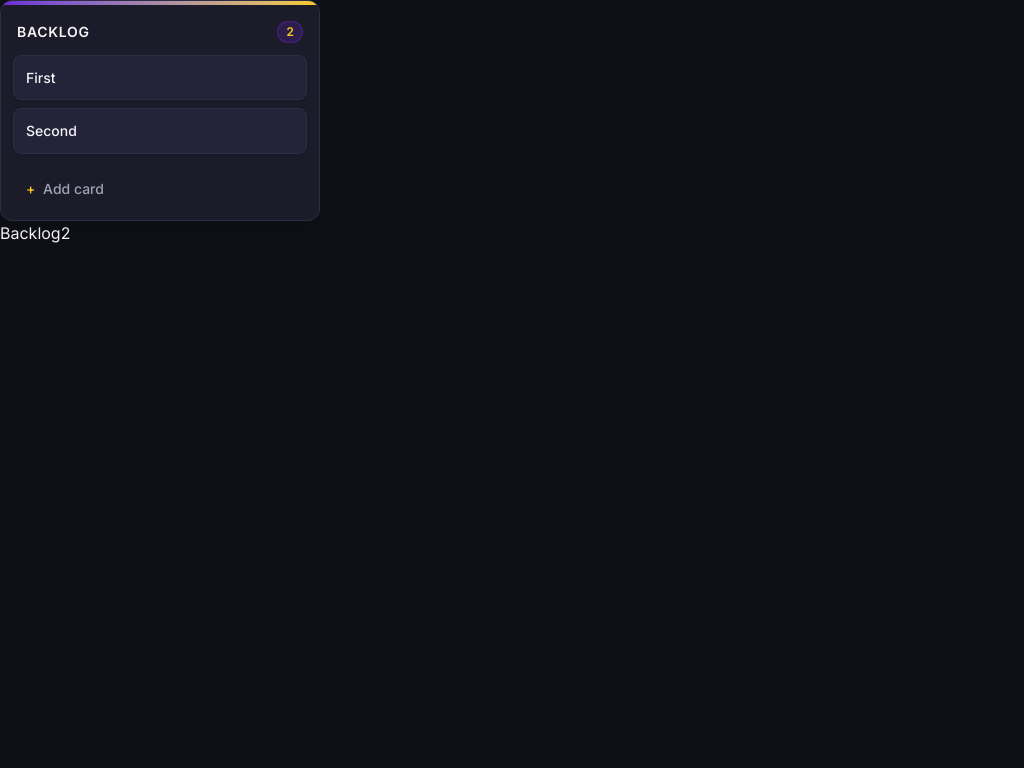
Scenario: Column › adds a card via the add-card dialog
The width and height of the screenshot is (1024, 768).
Expected: the text with test id "cardcount" reads "2", [61,222,70,242]
Click the button "+ Add card" at (72,188), box [13,170,307,208]
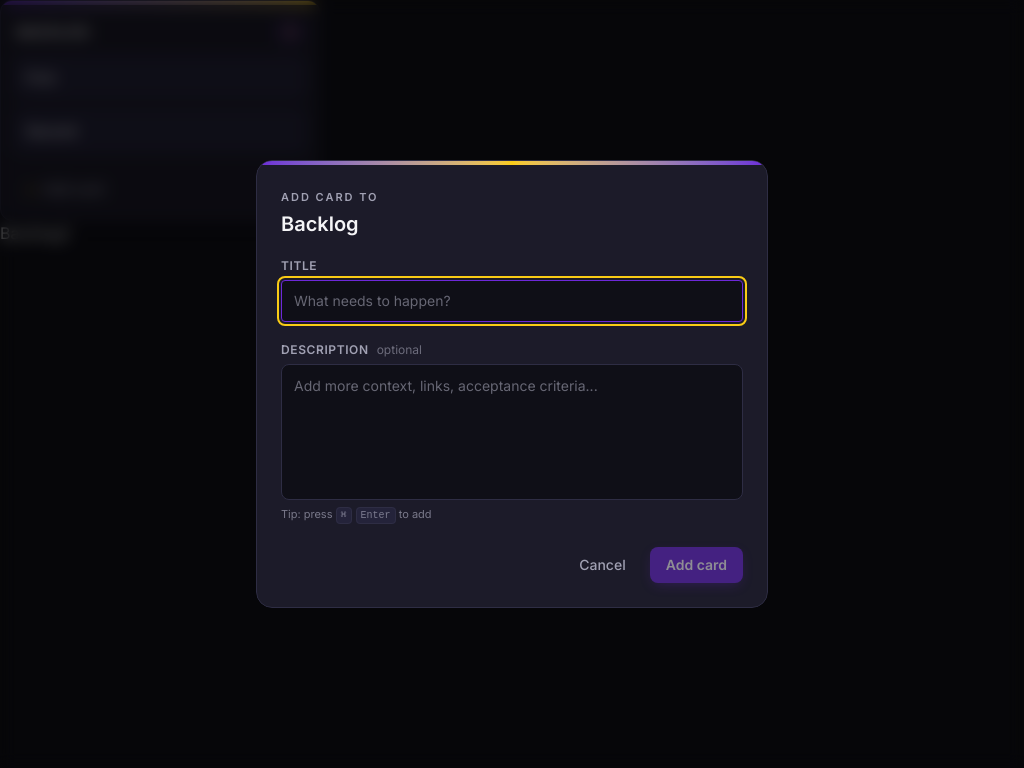
Type "Third" into the field labelled "Title" at (512,301), box [281,280,743,322]
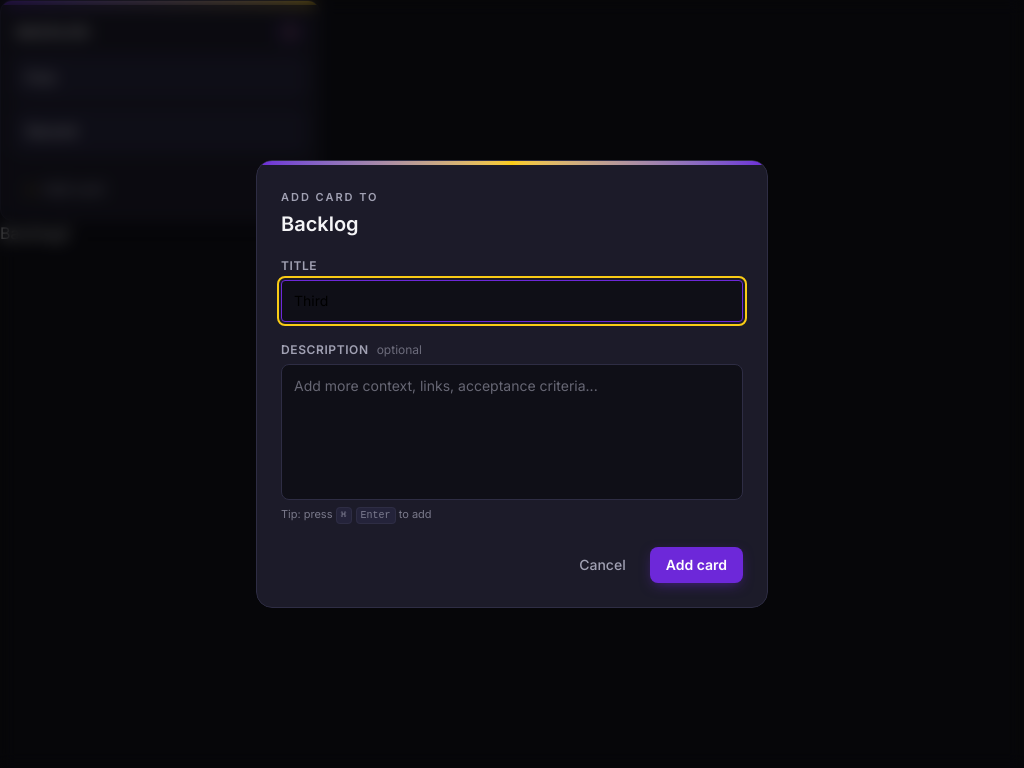
Click the button "Add card" at (696,565), box [650,547,743,583]
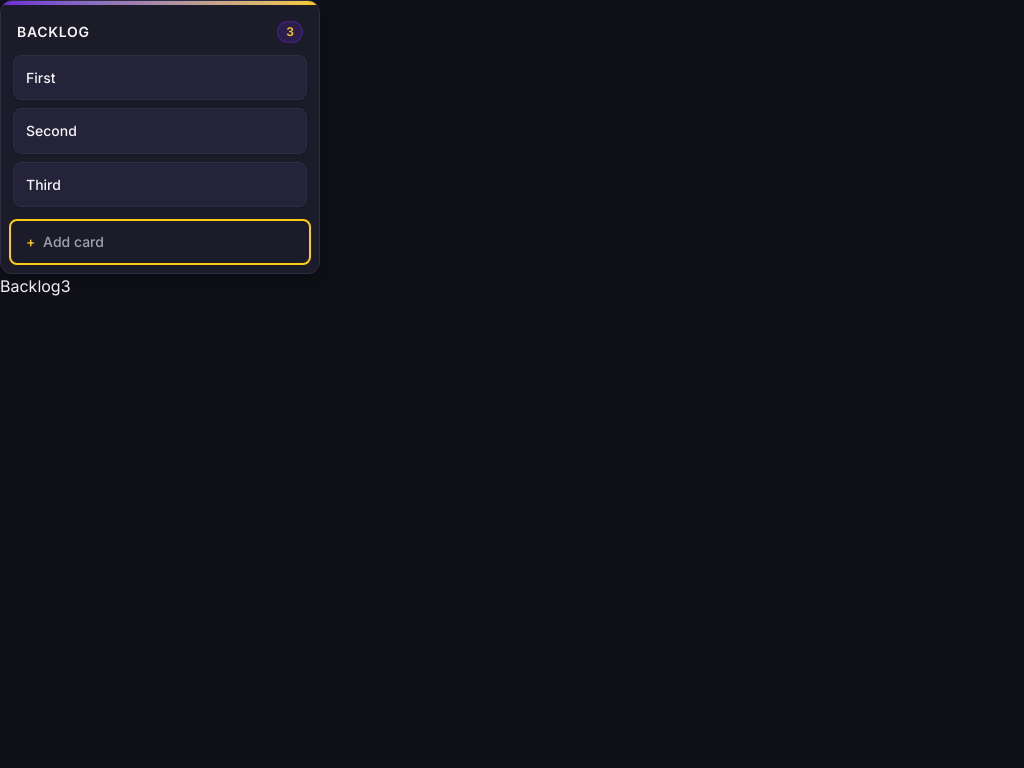
Expected: the text with test id "cardcount" reads "3", [61,276,71,296]
Expected: the text "Third" is shown, [26,176,61,192]
